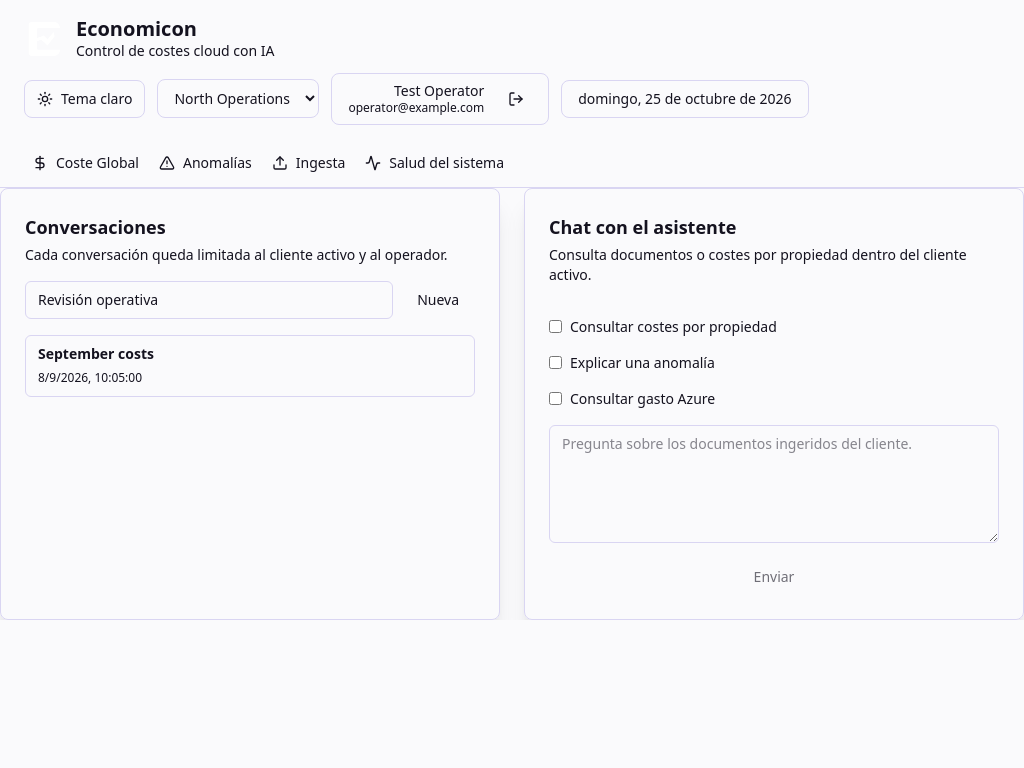
JUP-038 modo Explicar una anomalía: pregunta propuesta › si ya había texto al activar el modo no se sobrescribe
Note: Control previo: el cuadro acepta texto antes de activar el modo (comportamiento actual).
Type "Mi pregunta previa" into the text box labelled "Pregunta" at [774, 484], box x1=549 y1=424 x2=999 y2=542
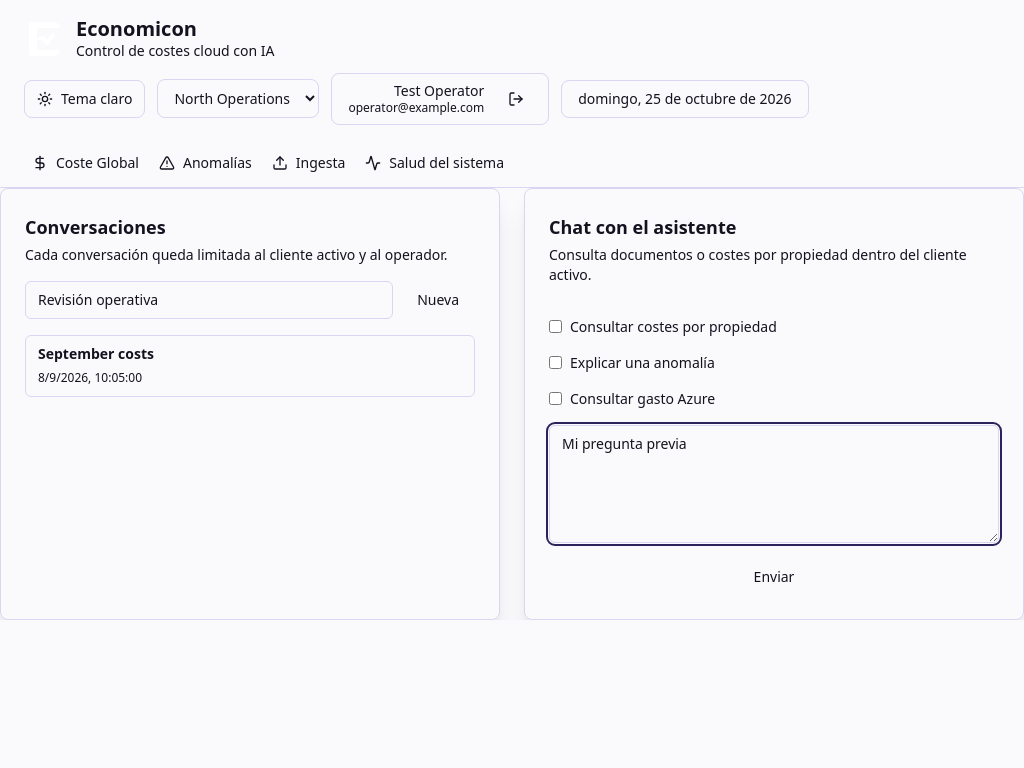
Click the checkbox labelled "Explicar una anomalía" at [556, 362], box x1=549 y1=356 x2=562 y2=369
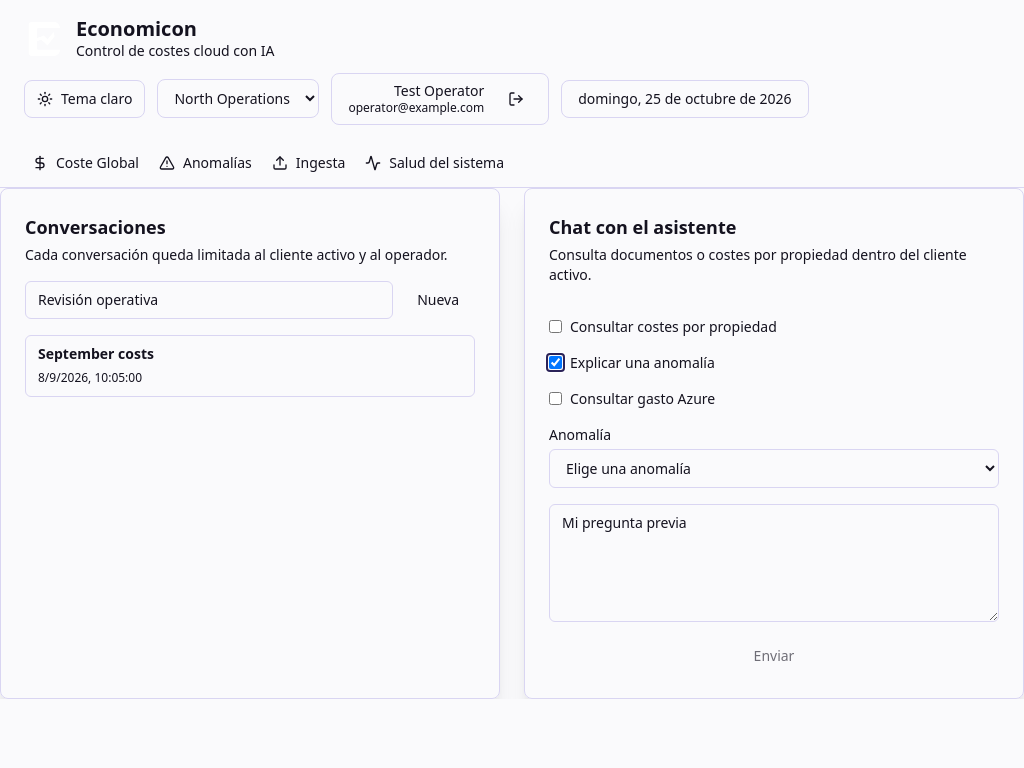
Expected: the dropdown labelled "Anomalía" is shown, x1=549 y1=448 x2=999 y2=488
